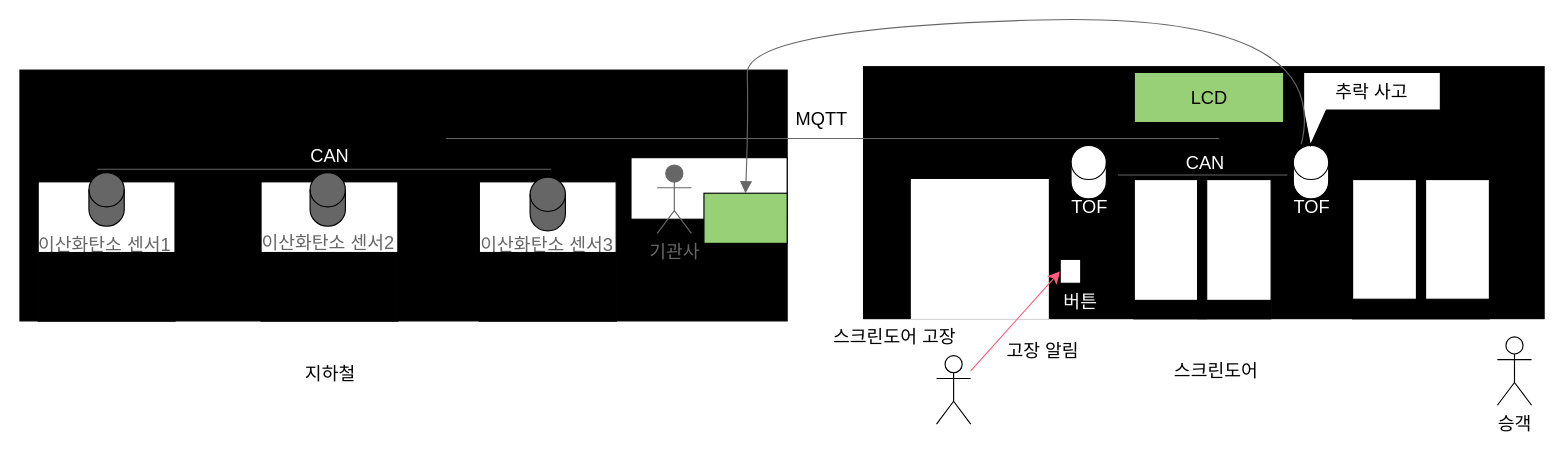
Some shapes in this 1564 by 474 pixel diagram are drawn without their labels. The shapes that lost their labels are listed below. From the top down, each one's centre as x and y in pixels, then its label:
point 745,217: 추락사고
point 953,389: 직원
